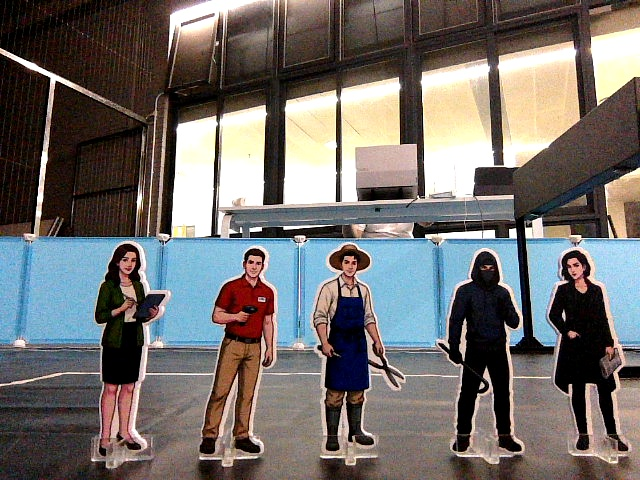community_person: (305, 237, 410, 471), (87, 234, 176, 473), (542, 240, 631, 469), (201, 235, 285, 471)
outsider: (433, 238, 532, 469)
